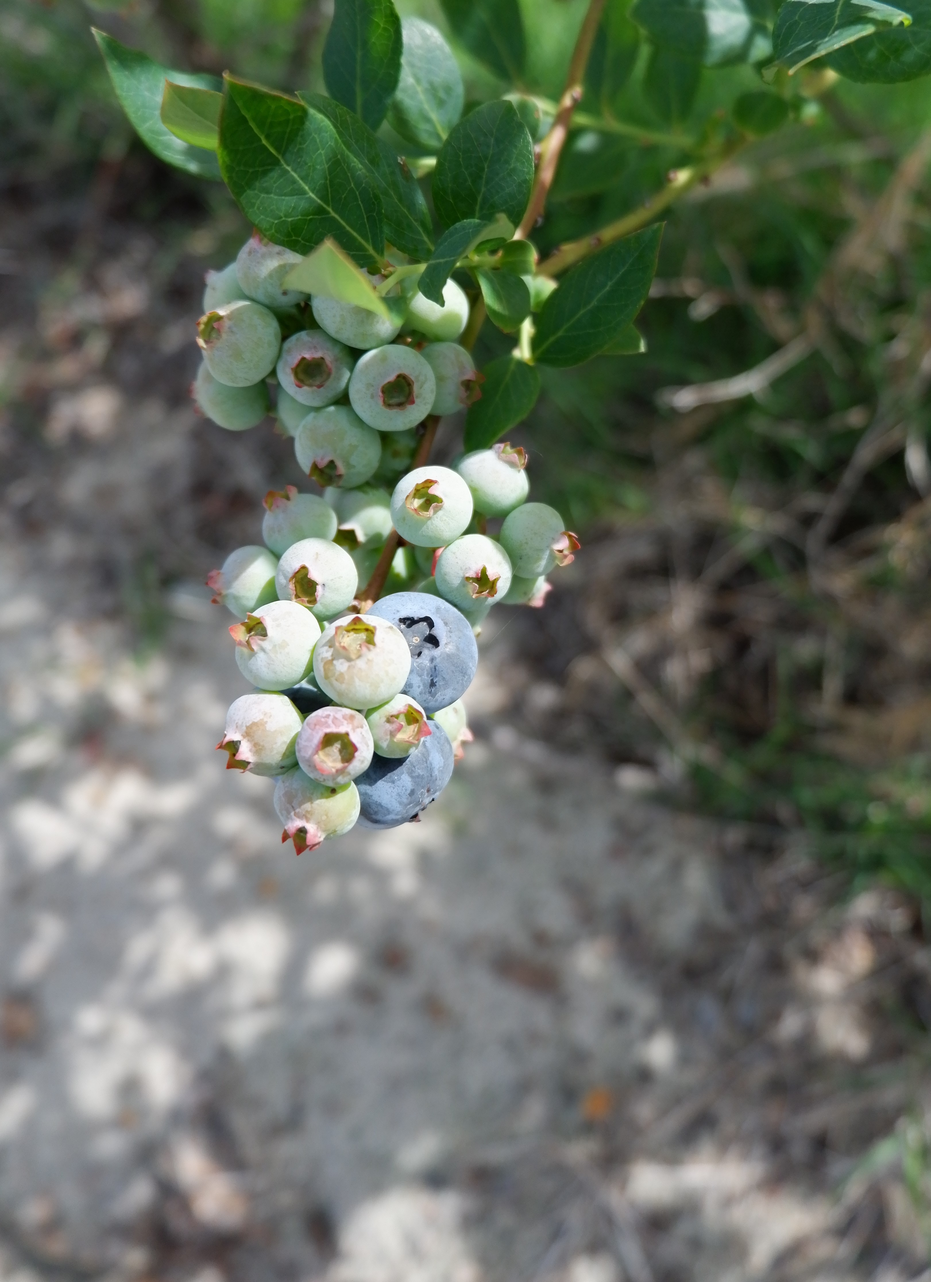Immature: (316, 616, 409, 708), (232, 603, 317, 689), (217, 695, 301, 775), (352, 347, 433, 429), (275, 768, 356, 849), (297, 406, 378, 487), (198, 302, 279, 382), (278, 539, 356, 617), (393, 467, 472, 544), (321, 479, 396, 554), (297, 709, 371, 785), (278, 329, 352, 404), (437, 536, 510, 609), (501, 506, 575, 575), (263, 486, 335, 553), (459, 445, 527, 515), (193, 365, 269, 427), (210, 547, 277, 617), (412, 575, 490, 634), (239, 234, 303, 305), (315, 294, 401, 346), (420, 344, 482, 414), (409, 275, 472, 340), (351, 543, 424, 597), (369, 697, 426, 756), (271, 385, 315, 434), (204, 262, 243, 310), (433, 702, 465, 746), (501, 572, 546, 603)
Mature: (373, 594, 475, 709), (354, 724, 452, 825), (278, 670, 332, 716)
